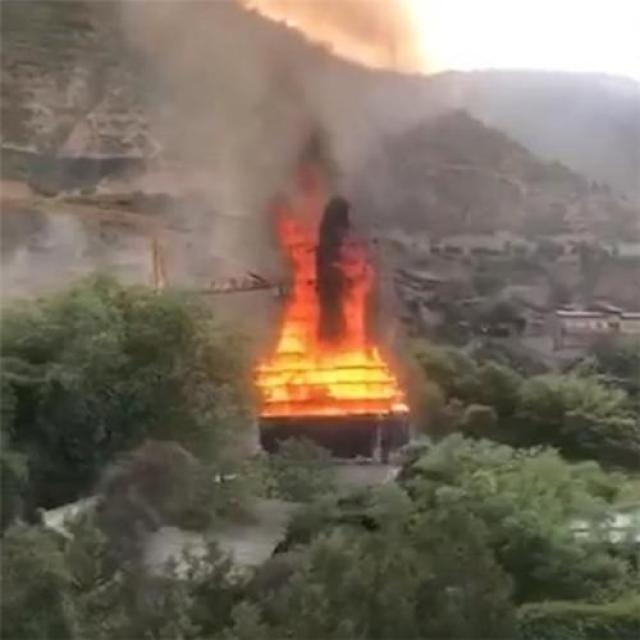Fire: (253, 215, 409, 415)
Smoke: (1, 1, 466, 313)
